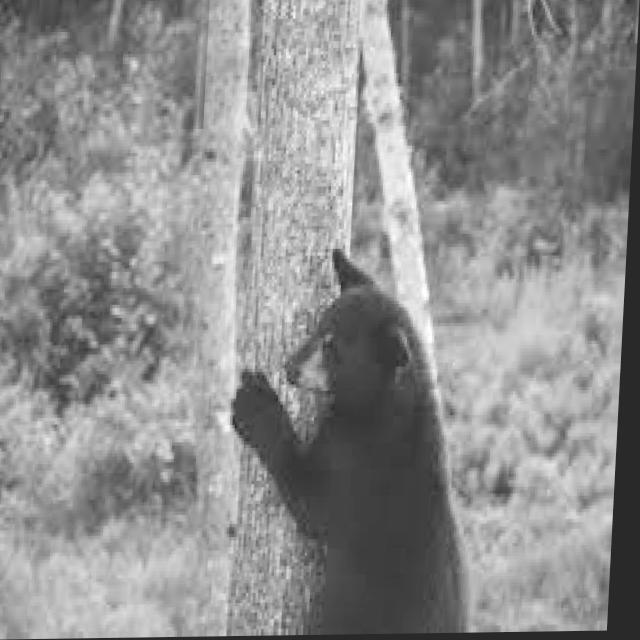Bear: (221, 243, 488, 636)
